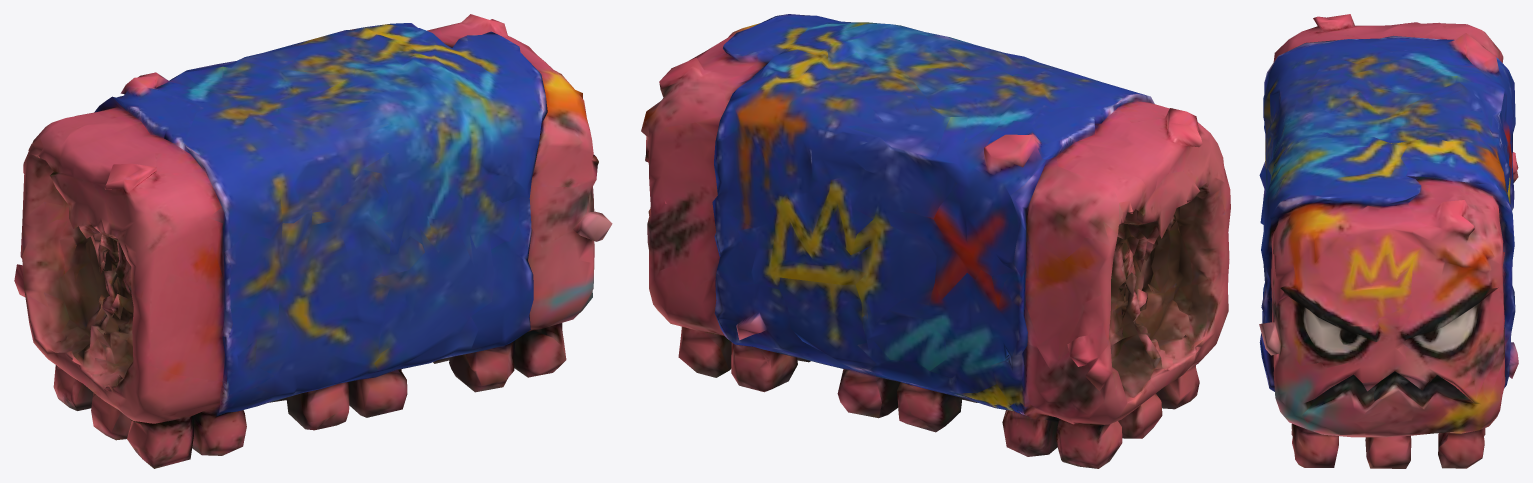
File: eraser_grub.glb
3 renders of one model, left to right at view 1: azimuth 30°, elevation 25°; view 2: azimuth 150°, elevation 25°; view 3: azimuth 270°, elevation 25°, orthographic. The views are drawn at different scales.
Parts seen in each view (by area): view 1: eraser_grub; view 2: eraser_grub; view 3: eraser_grub.
Boxes of the visible parts, box(x1,y1,x2,y2) form: eraser_grub: box(14, 14, 612, 468); eraser_grub: box(641, 14, 1230, 468); eraser_grub: box(1259, 14, 1518, 468).
Bounding box in the file's own units: 0.8 × 0.4909 × 0.4004.
Materials: 1 (1 with a texture image).
